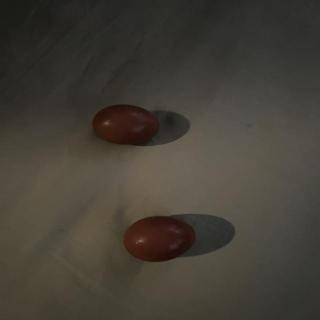Telur: (121, 213, 201, 265), (93, 103, 164, 147)
